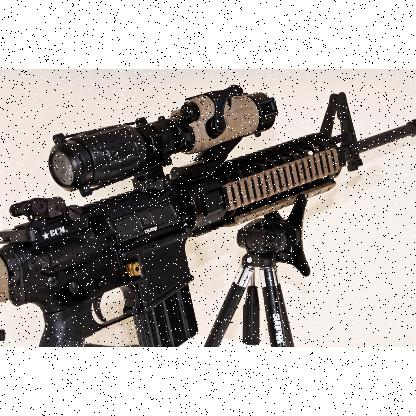gun: (10, 102, 406, 340)
